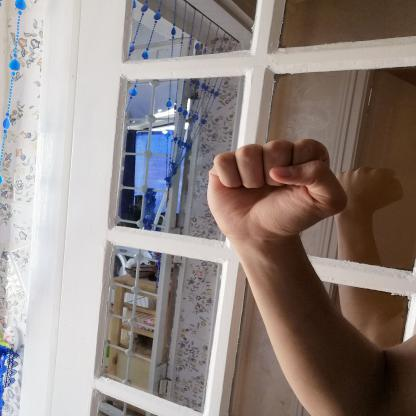SAD: (192, 127, 372, 251)
